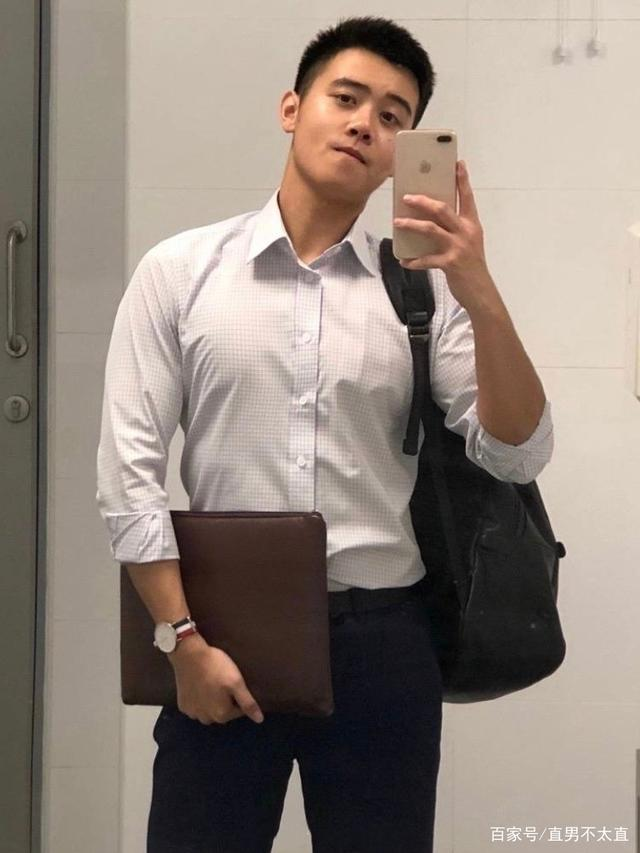person: (181, 12, 541, 853)
